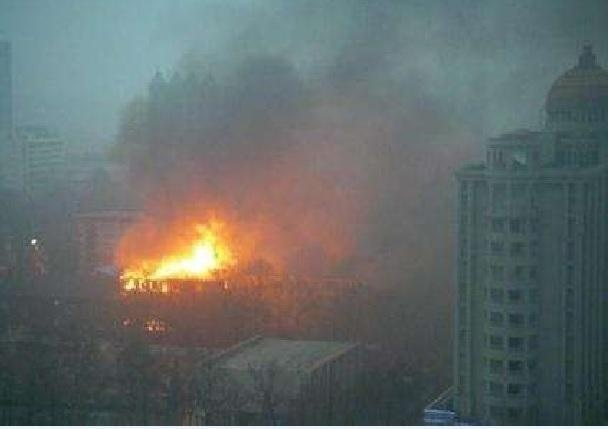fire: (118, 216, 237, 287)
